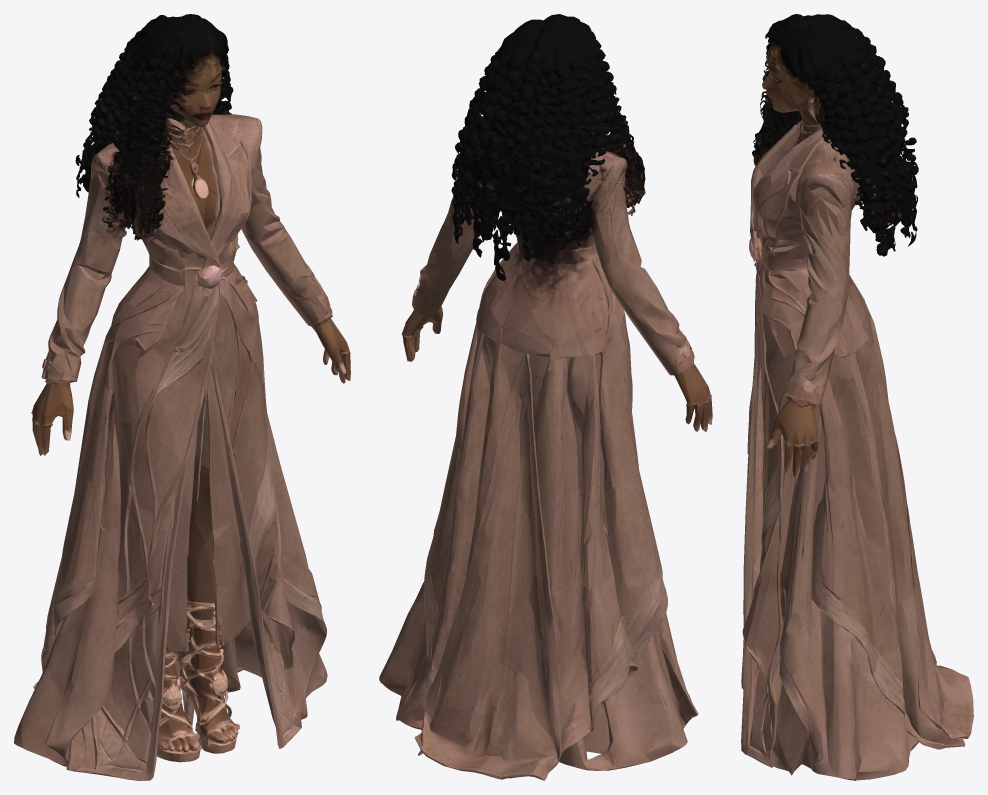
3 renders of one model, left to right at view 1: azimuth 30°, elevation 25°; view 2: azimuth 150°, elevation 25°; view 3: azimuth 270°, elevation 25°, orthographic. The views are drawn at different scales.
Parts seen in each view (by area): view 1: Mesh_0; view 2: Mesh_0; view 3: Mesh_0.
Part boxes in pixels (left/top/right/bottom): Mesh_0: left=14, top=14, right=350, bottom=780; Mesh_0: left=379, top=14, right=712, bottom=780; Mesh_0: left=741, top=14, right=973, bottom=780.
Bounding box in the file's own units: 0.8659 × 1.9 × 0.5672.
Materials: 1 (1 with a texture image).
